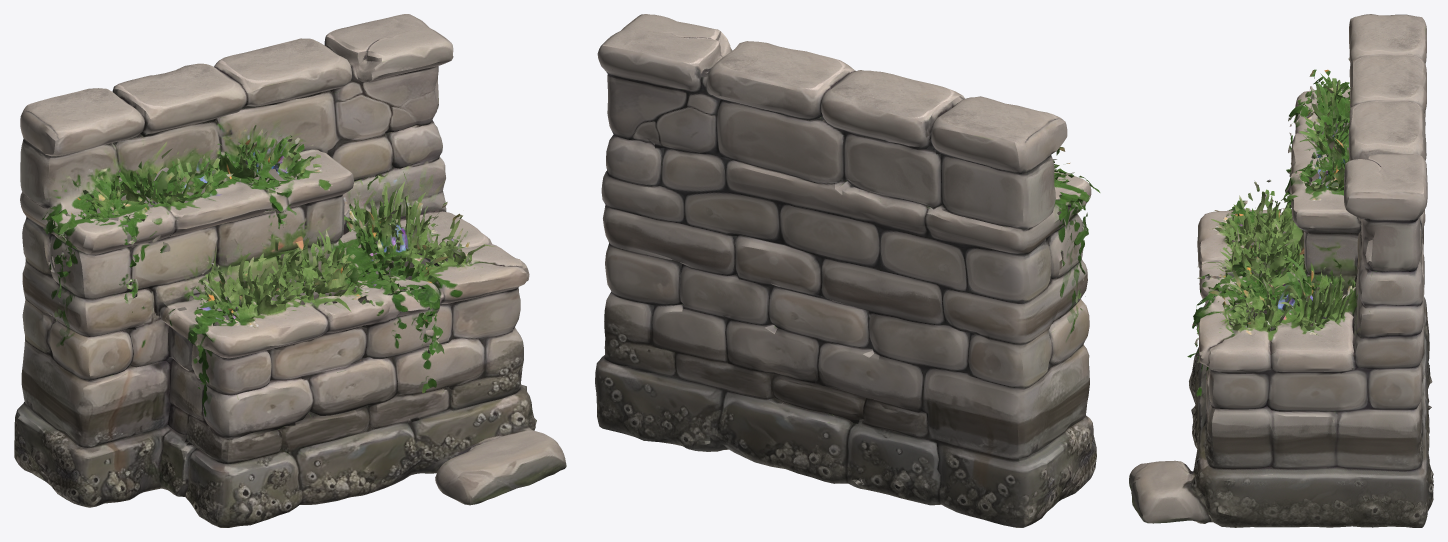
Rendered from drowned_garden_terrace_wall.glb.
The picture shows the model from 3 angles, left to right: view 1: azimuth 30°, elevation 25°; view 2: azimuth 150°, elevation 25°; view 3: azimuth 270°, elevation 25°; orthographic projection. The views are drawn at different scales.
Parts seen in each view (by area): view 1: Mesh_0; view 2: Mesh_0; view 3: Mesh_0.
Boxes of the visible parts, bbox=[...] form: Mesh_0: bbox=[14, 14, 566, 527]; Mesh_0: bbox=[595, 14, 1100, 527]; Mesh_0: bbox=[1129, 14, 1433, 527].
Bounding box in the file's own units: 1.89 × 1.54 × 1.25.
1 material, 1 textured.
